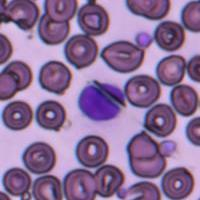L: (78, 81, 123, 122)
